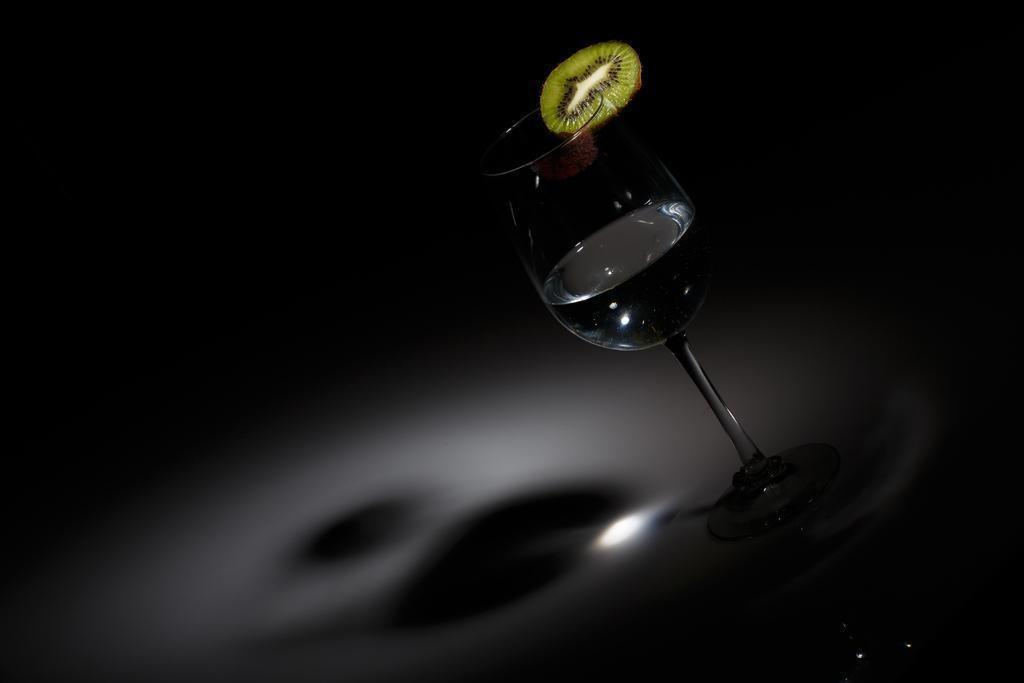glass-wine: (481, 88, 832, 528)
